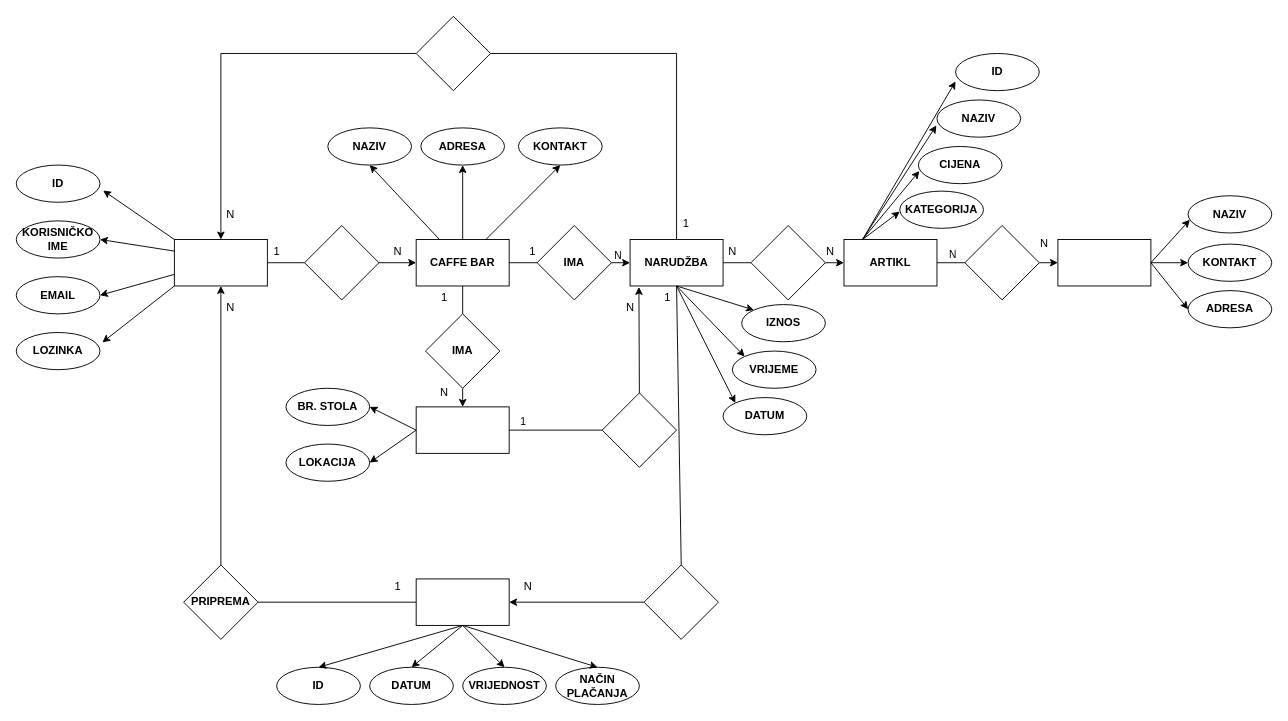
This 1288x721 diagram has some shape labels left out. Here are the shapes that lost their labels. From the top down, the centre of each, then its label:
point 453,53: NAPRAVLJNA OD
point 220,262: KORISNIK
point 341,262: RADI
point 787,262: SADRŽI
point 1001,262: NABAVLJEN OD
point 1104,262: DOBAVLJAČ
point 462,429: STOL
point 639,429: ZA
point 462,601: RAČUN
point 680,601: IZDAJE SE ZA
